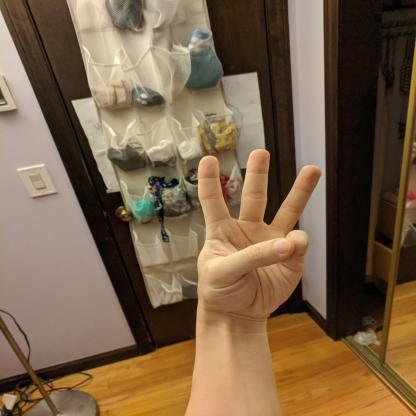W: (190, 146, 324, 319)
